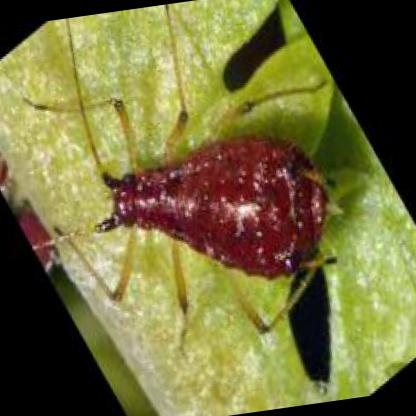uroleucon compositae: (26, 86, 342, 316)
